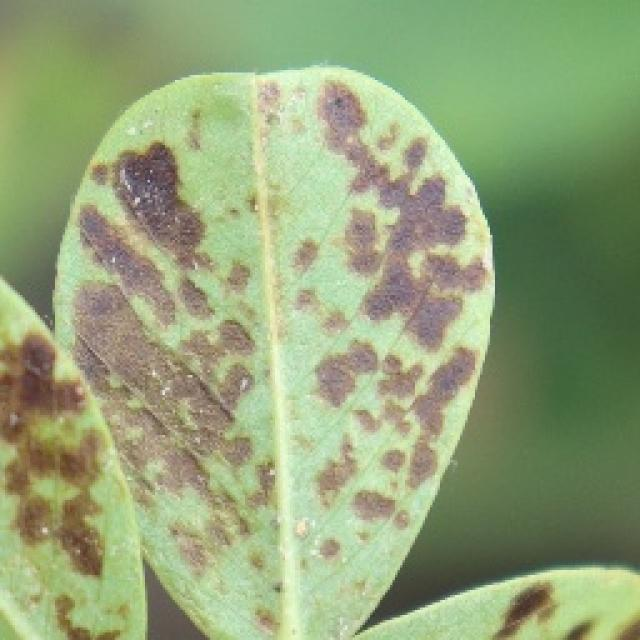Whitefly: (0, 60, 492, 640), (437, 546, 640, 640)
